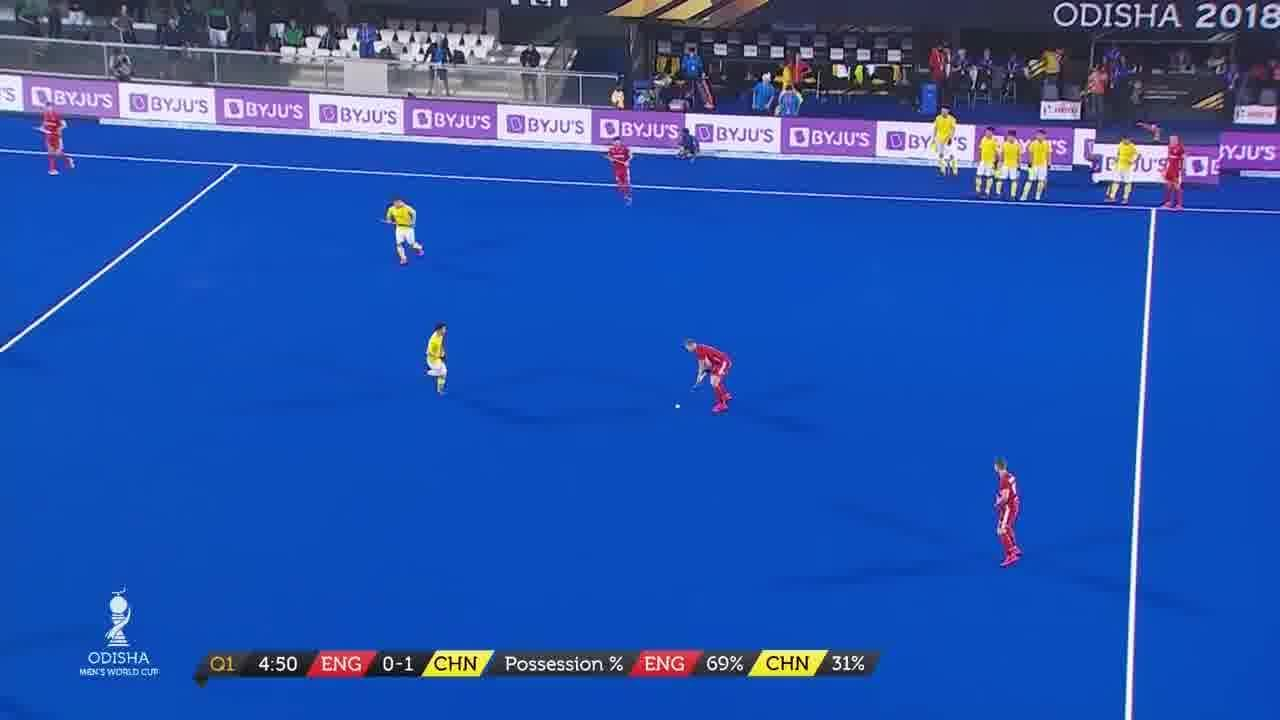ball: (672, 403, 684, 411)
